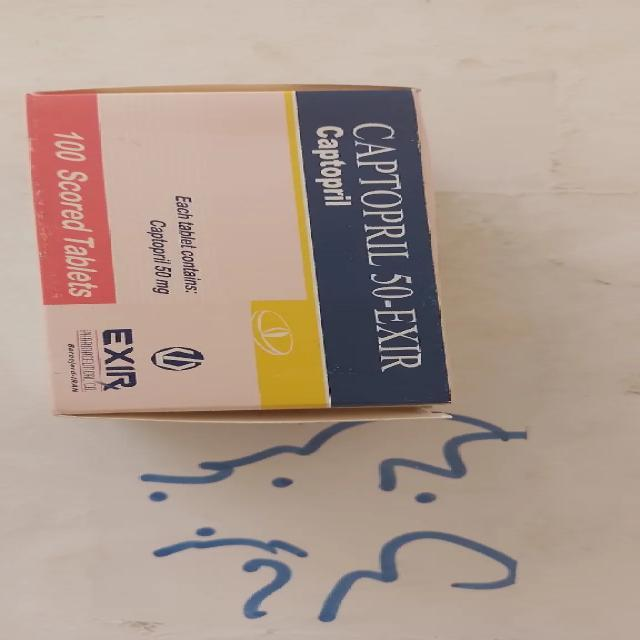drug-name: (348, 122, 429, 372)
